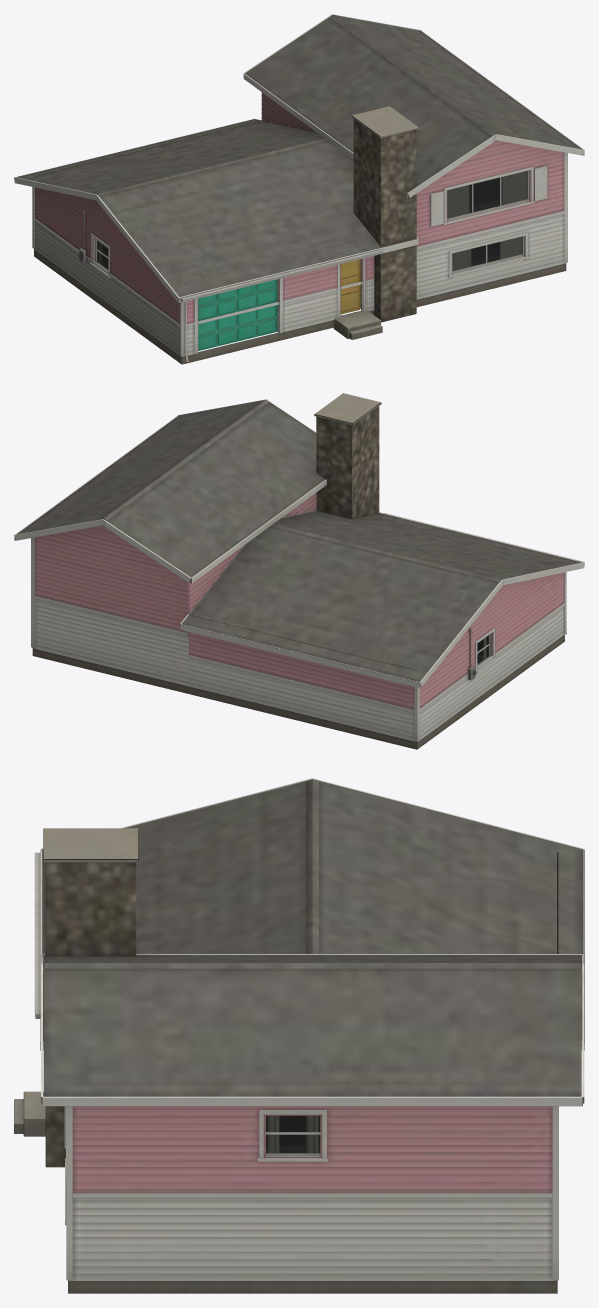
Rendered from ranch_pink-low.glb.
3 views of the same model, one above another, from view 1: azimuth 30°, elevation 25°; view 2: azimuth 150°, elevation 25°; view 3: azimuth 270°, elevation 25° (orthographic). The views are drawn at different scales.
Parts seen in each view (by area): view 1: ranch_pink; view 2: ranch_pink; view 3: ranch_pink.
Part boxes in pixels (box(x1,y1,x2,y2)): ranch_pink: box(14, 14, 584, 364); ranch_pink: box(14, 393, 584, 749); ranch_pink: box(14, 778, 584, 1293).
Bounding box in the file's own units: 15.86 × 7.05 × 11.66.
2 materials, 2 textured.
